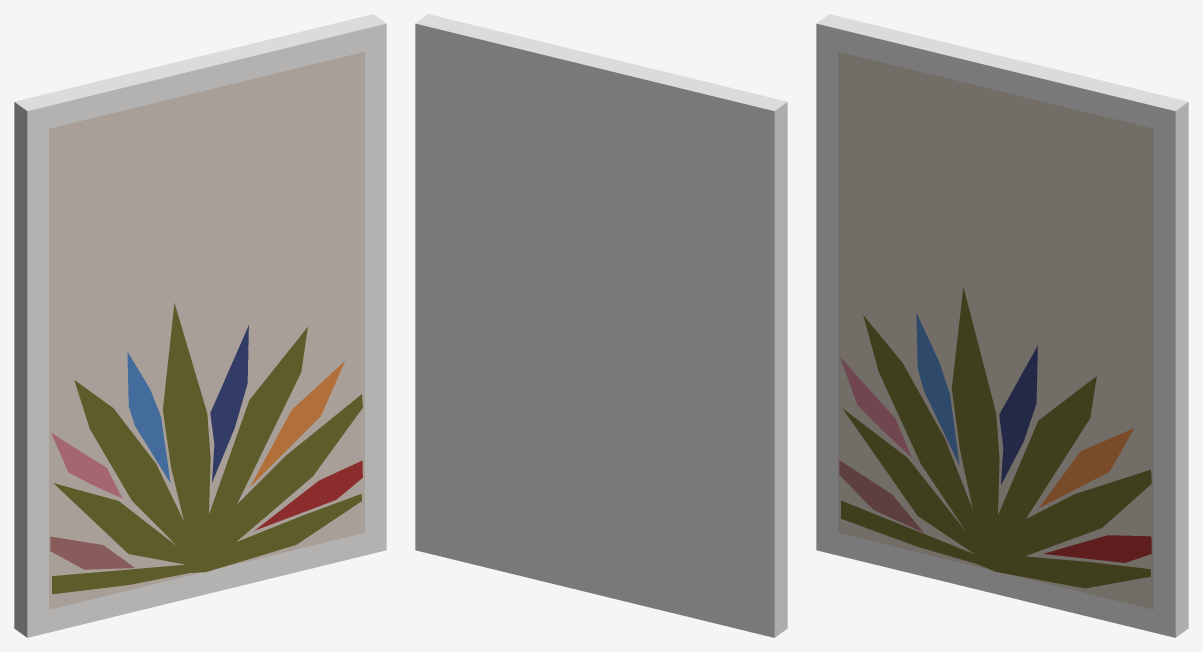
The model's file is Picture_2.glb.
The picture shows the model from 3 angles, left to right: view 1: azimuth 30°, elevation 25°; view 2: azimuth 150°, elevation 25°; view 3: azimuth 330°, elevation 25°; orthographic projection.
Visible parts, largest first — view 1: Picture_2; view 2: Picture_2; view 3: Picture_2.
Part boxes in pixels (left/top/right/bottom): Picture_2: left=14, top=14, right=386, bottom=637; Picture_2: left=415, top=14, right=787, bottom=637; Picture_2: left=816, top=14, right=1188, bottom=637.
Size of the model in its own units: 0.4139 by 0.5797 by 0.0261.
1 material, 1 textured.
